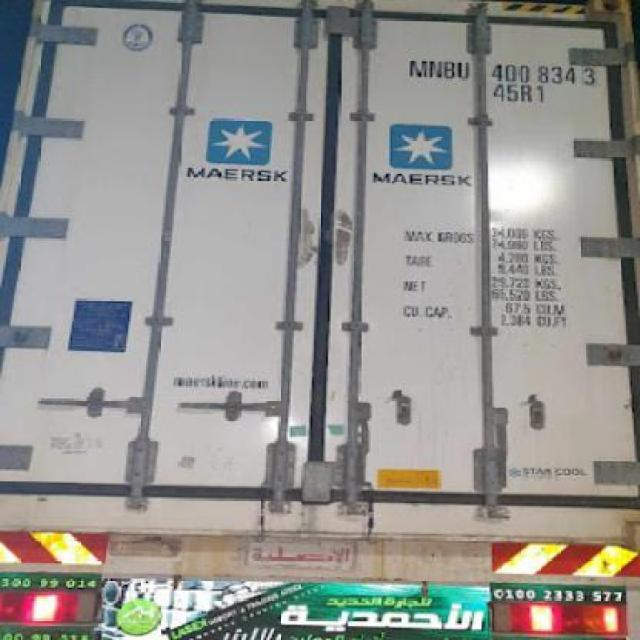ISO: (494, 86, 546, 104)
container_number: (412, 60, 598, 82)
